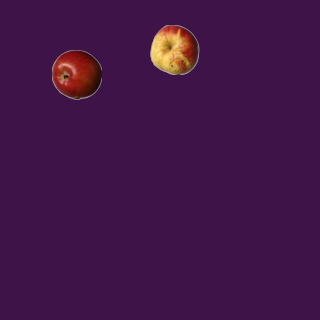Apple Braeburn: (51, 49, 101, 99)
Apple Red Yellow 1: (149, 24, 199, 74)
